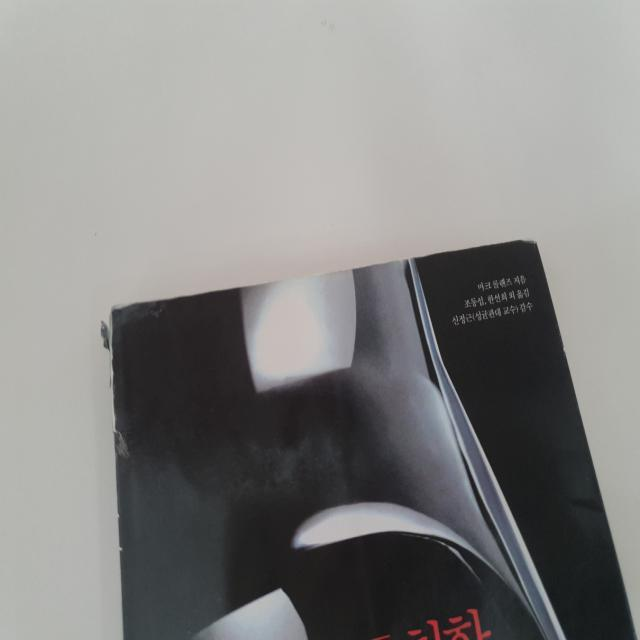Ripped: (92, 292, 174, 464)
Wornout: (112, 507, 130, 561)
